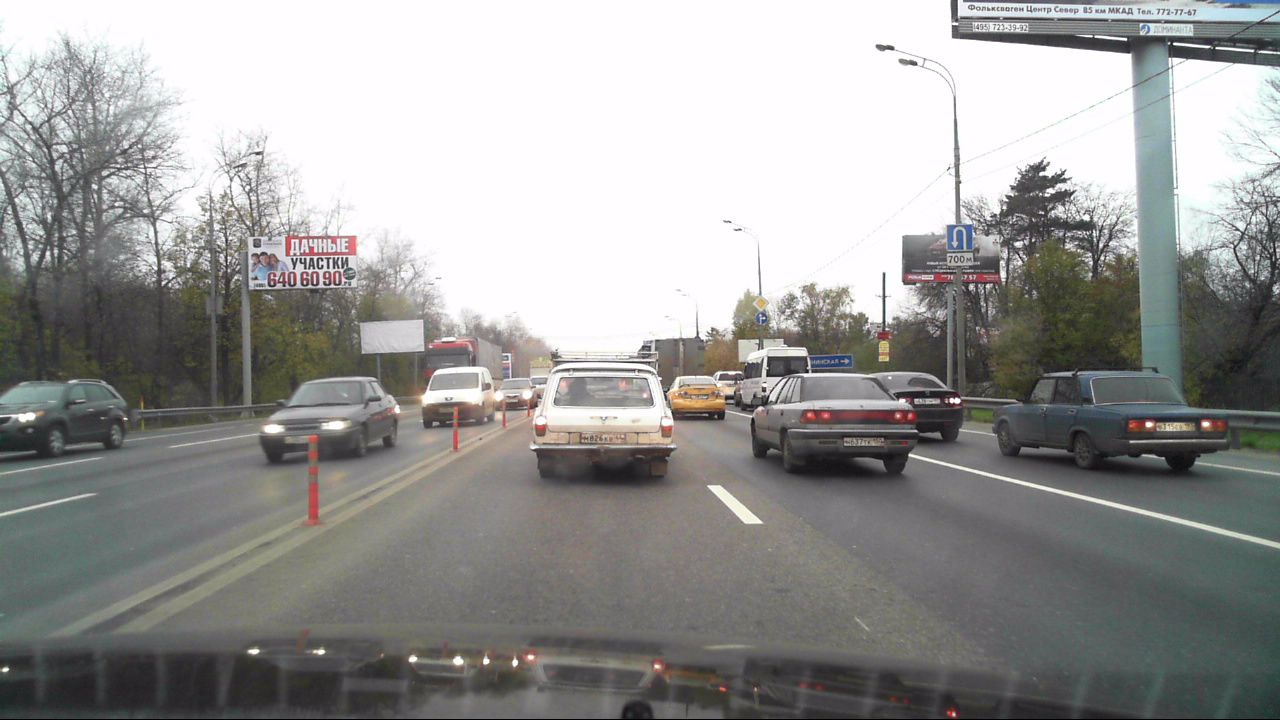U-turn: (947, 225, 972, 251)
